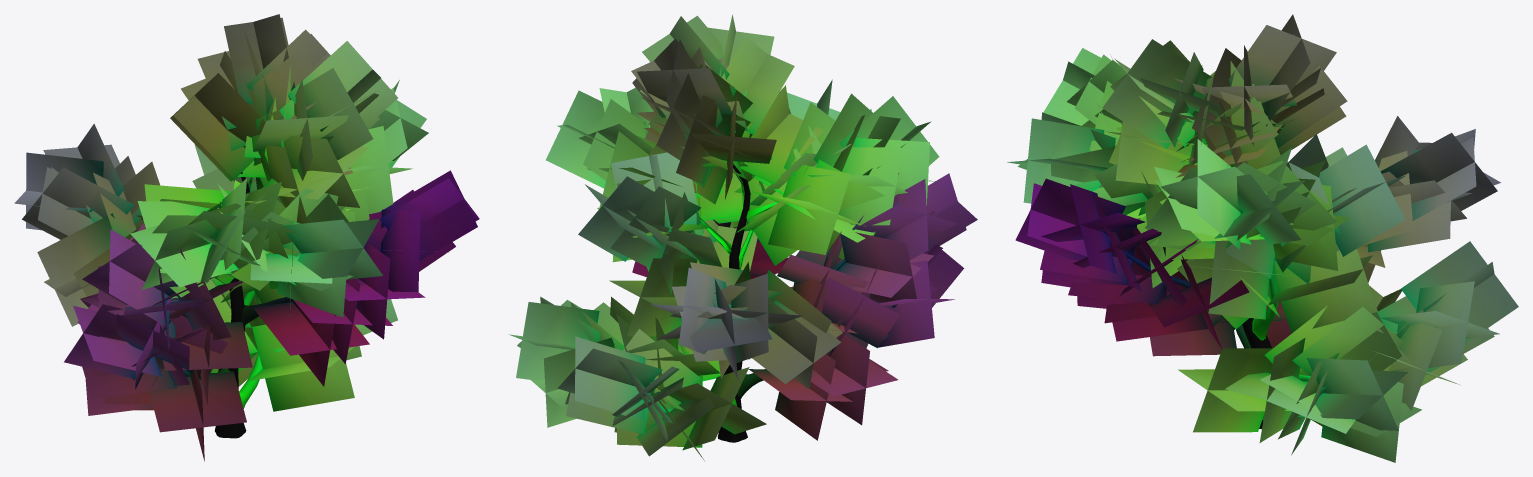
File: URP_P11_Tree_4_LOD_1.fbx
3 renders of one model, left to right at view 1: azimuth 30°, elevation 25°; view 2: azimuth 150°, elevation 25°; view 3: azimuth 270°, elevation 25°, orthographic. The views are drawn at different scales.
Visible parts, largest first — view 1: Tree_4_LOD_1; view 2: Tree_4_LOD_1; view 3: Tree_4_LOD_1.
Part boxes in pixels (x1,y1,x2,y2): Tree_4_LOD_1: (14, 14, 479, 461); Tree_4_LOD_1: (508, 14, 977, 460); Tree_4_LOD_1: (1007, 14, 1518, 462).
Size of the model in its own units: 551 by 565 by 615.
